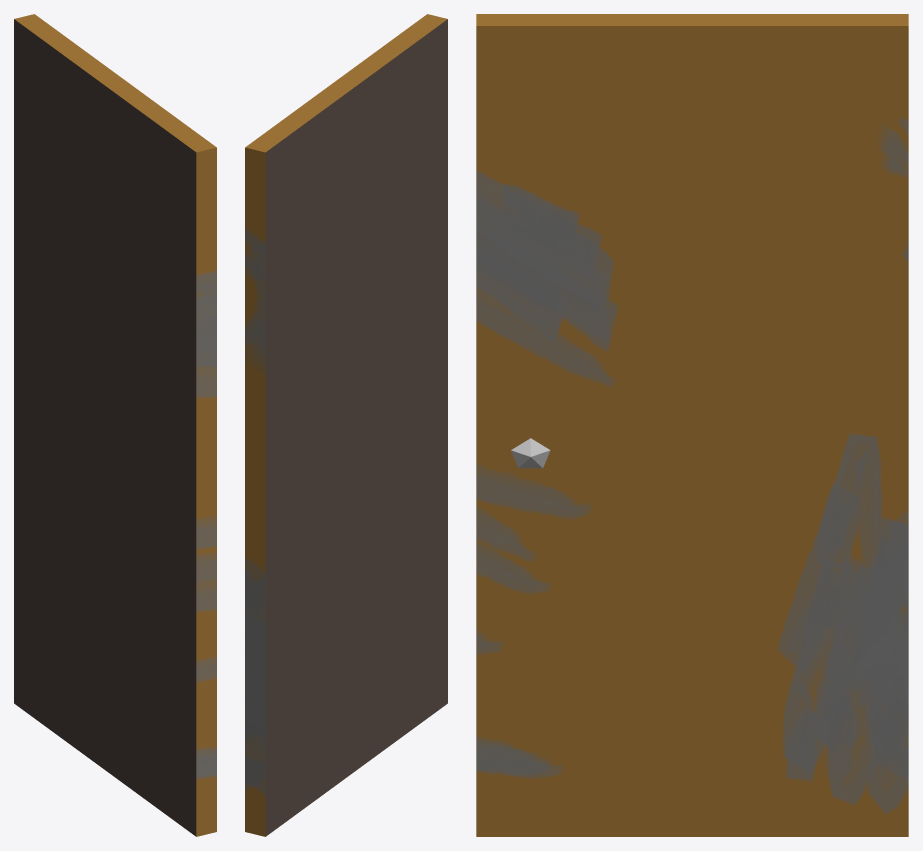
The model's file is tür ALONE fertig.fbx.
The picture shows the model from 3 angles, left to right: view 1: azimuth 30°, elevation 25°; view 2: azimuth 150°, elevation 25°; view 3: azimuth 270°, elevation 25°; orthographic projection. The views are drawn at different scales.
Parts seen in each view (by area): view 1: Cube; view 2: Cube; view 3: Cube.
Part boxes in pixels (x1=…): Cube: x1=14, y1=14, x2=216, y2=836; Cube: x1=245, y1=14, x2=447, y2=836; Cube: x1=476, y1=14, x2=908, y2=836.
Bounding box in the file's own units: 0.1313 × 2.3 × 1.11.
